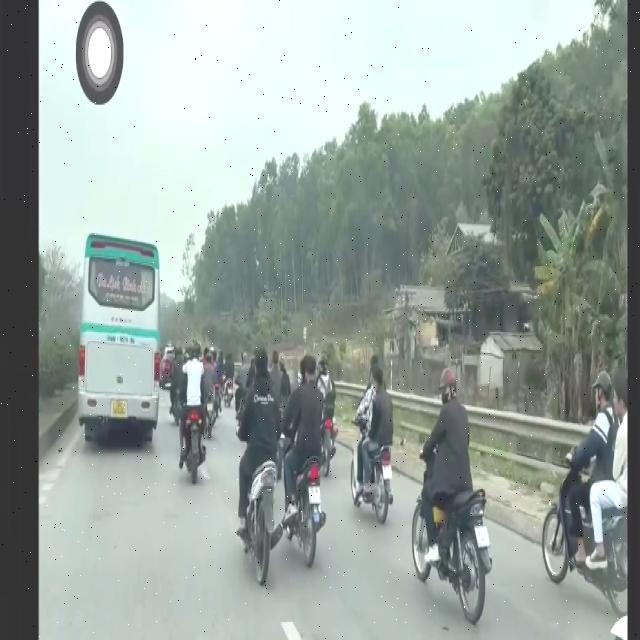helmet: (438, 362, 458, 421), (593, 366, 611, 423)
no_helmet: (255, 344, 268, 386), (372, 369, 388, 403), (306, 349, 316, 392)
